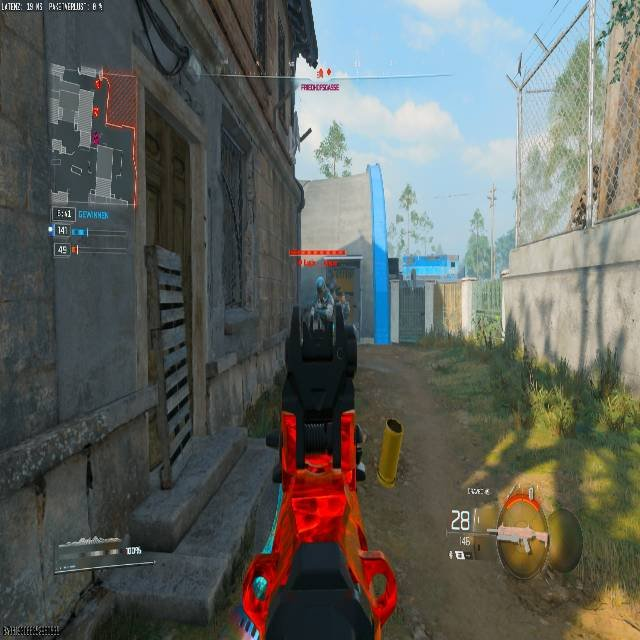head: (315, 274, 330, 293)
player: (306, 278, 342, 332), (310, 275, 338, 305), (312, 274, 328, 317)
